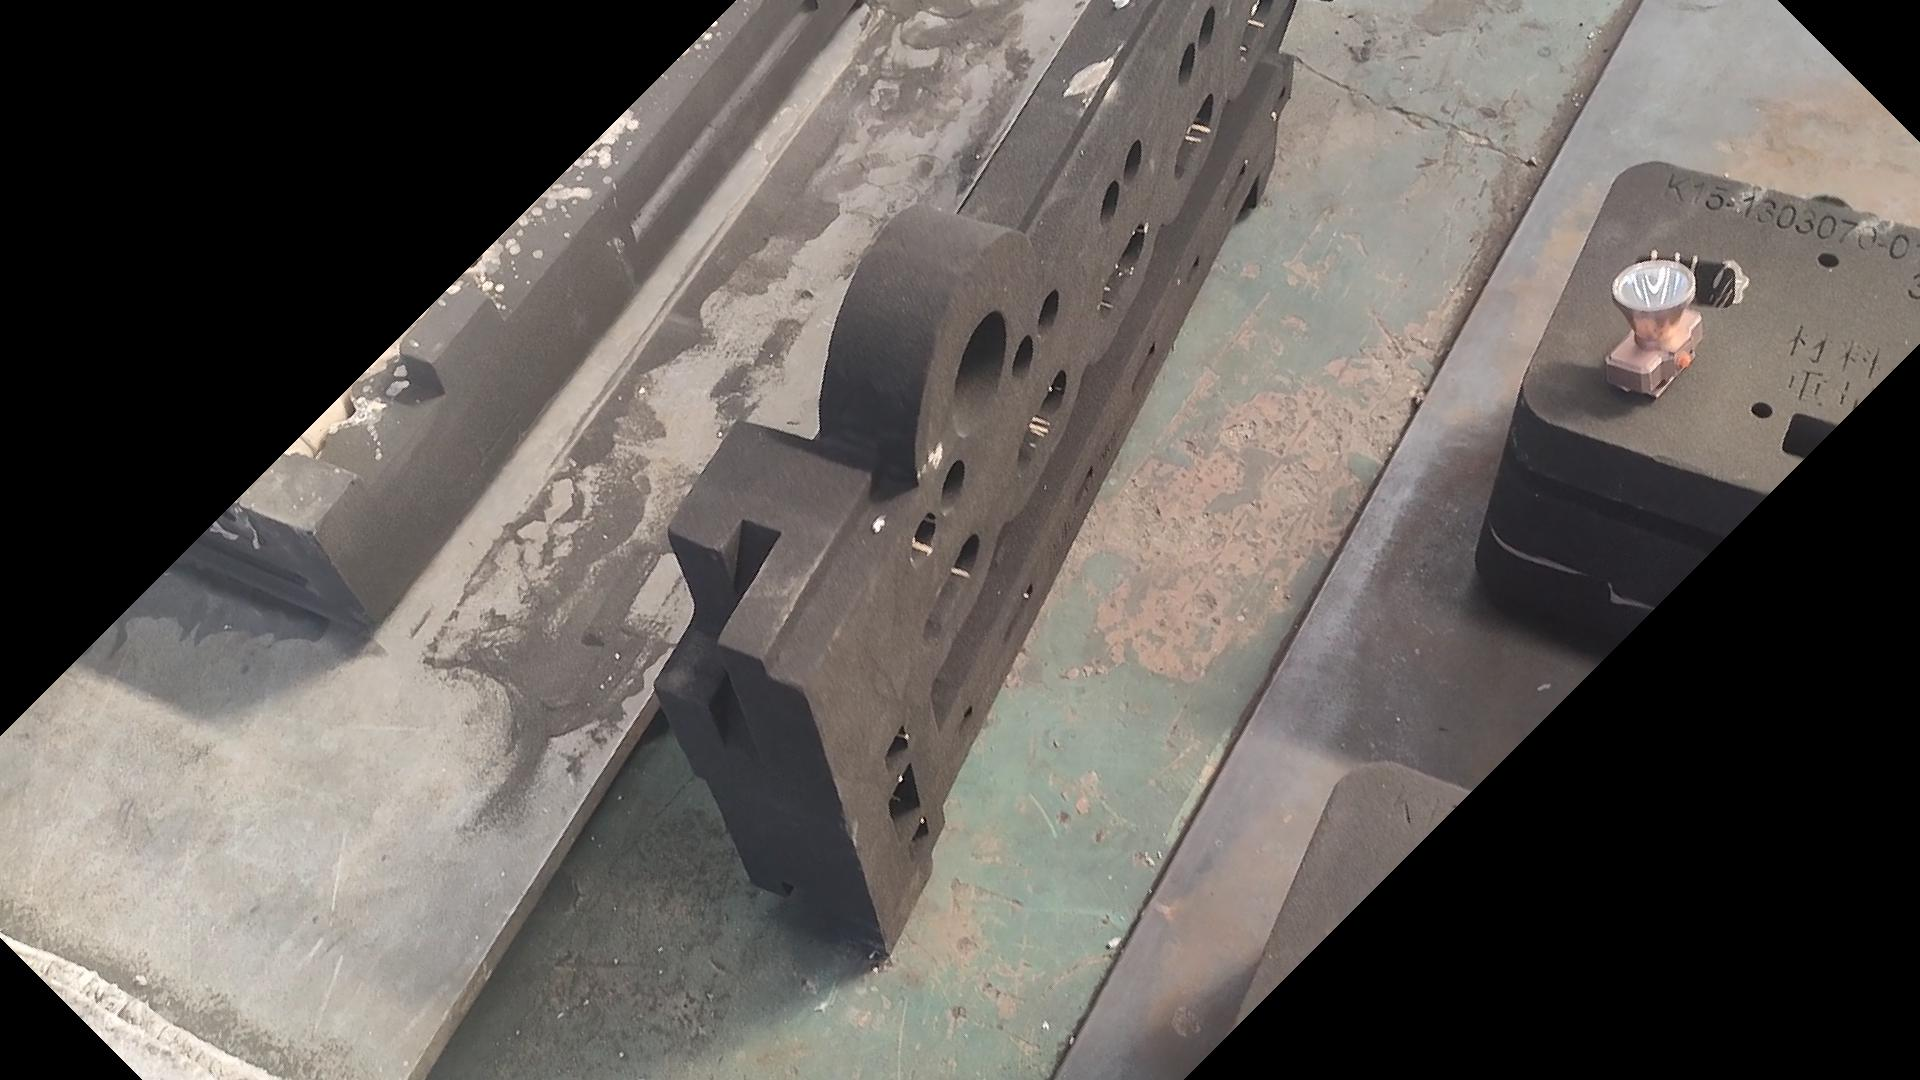pouring hole: (951, 309, 1006, 438)
